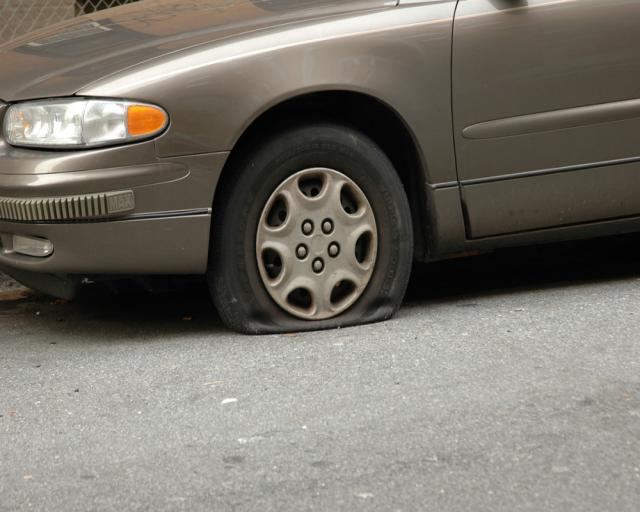tire flat: (207, 126, 413, 335)
